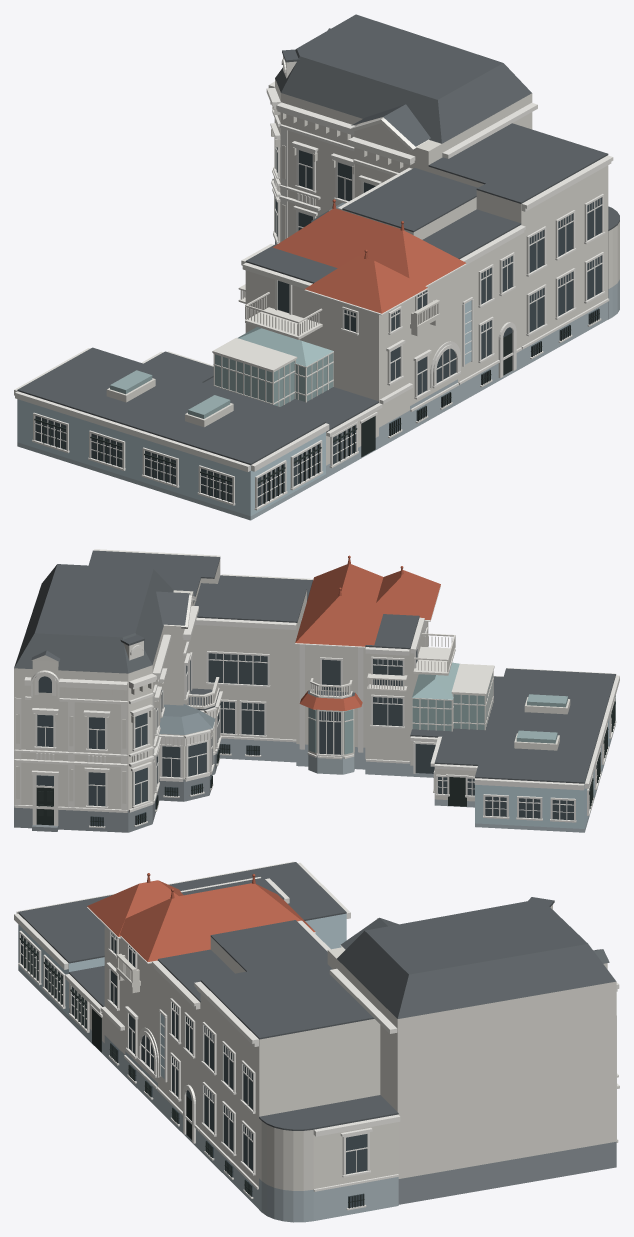
File: de-roos.glb
3 renders of one model, top to bottom at view 1: azimuth 30°, elevation 25°; view 2: azimuth 150°, elevation 25°; view 3: azimuth 270°, elevation 25°, orthographic. The views are drawn at different scales.
Parts seen in each view (by area): view 1: de-roos; view 2: de-roos; view 3: de-roos.
Part boxes in pixels (x1,y1,x2,y2): de-roos: (14, 14, 619, 520); de-roos: (14, 549, 619, 832); de-roos: (14, 861, 619, 1222).
Bounding box in the file's own units: 45.71 × 15.3 × 38.42.
